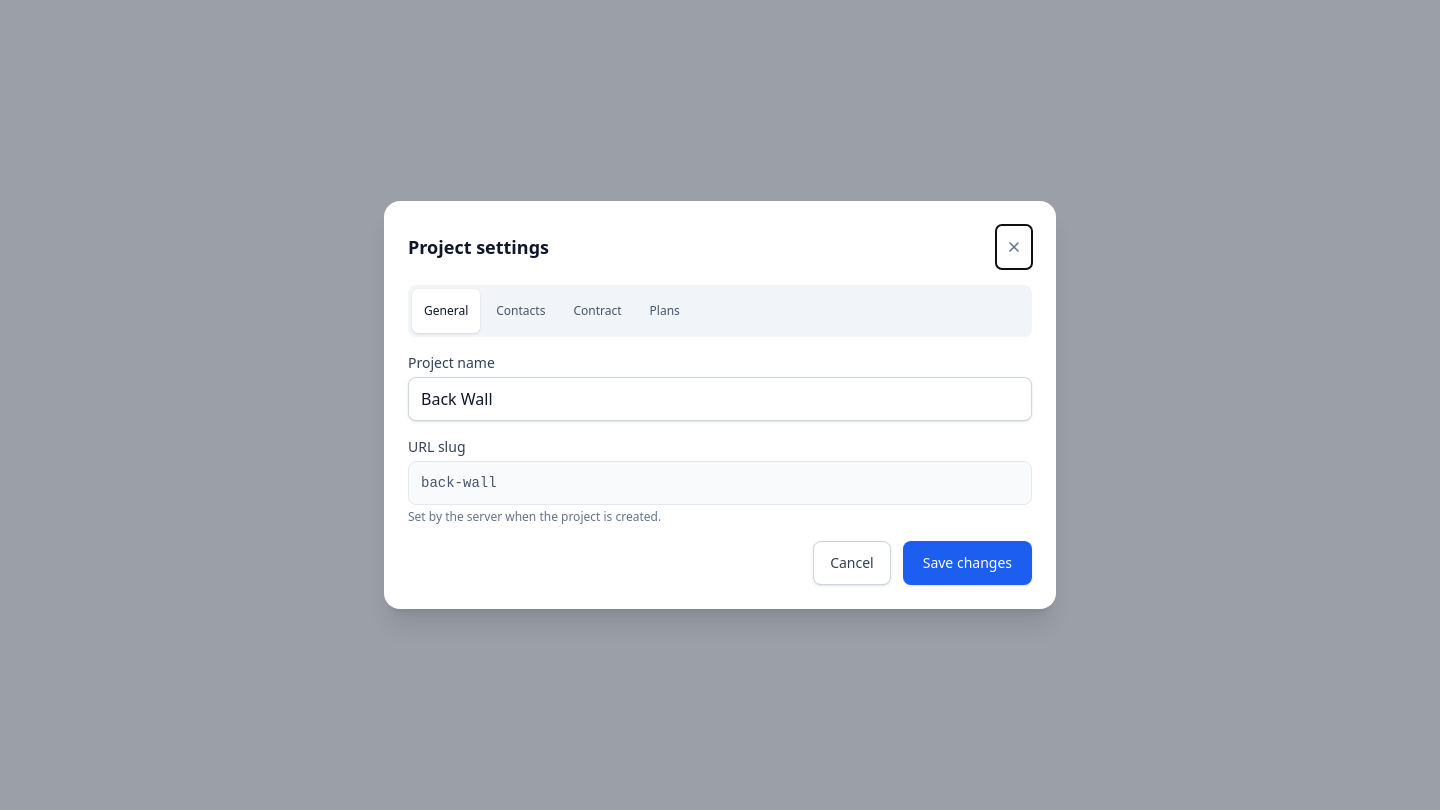
Scenario: SettingsModal › shows the contacts manager when the Contacts tab is selected
Click the tab "Contacts" at (521, 311), box [484, 289, 557, 333]
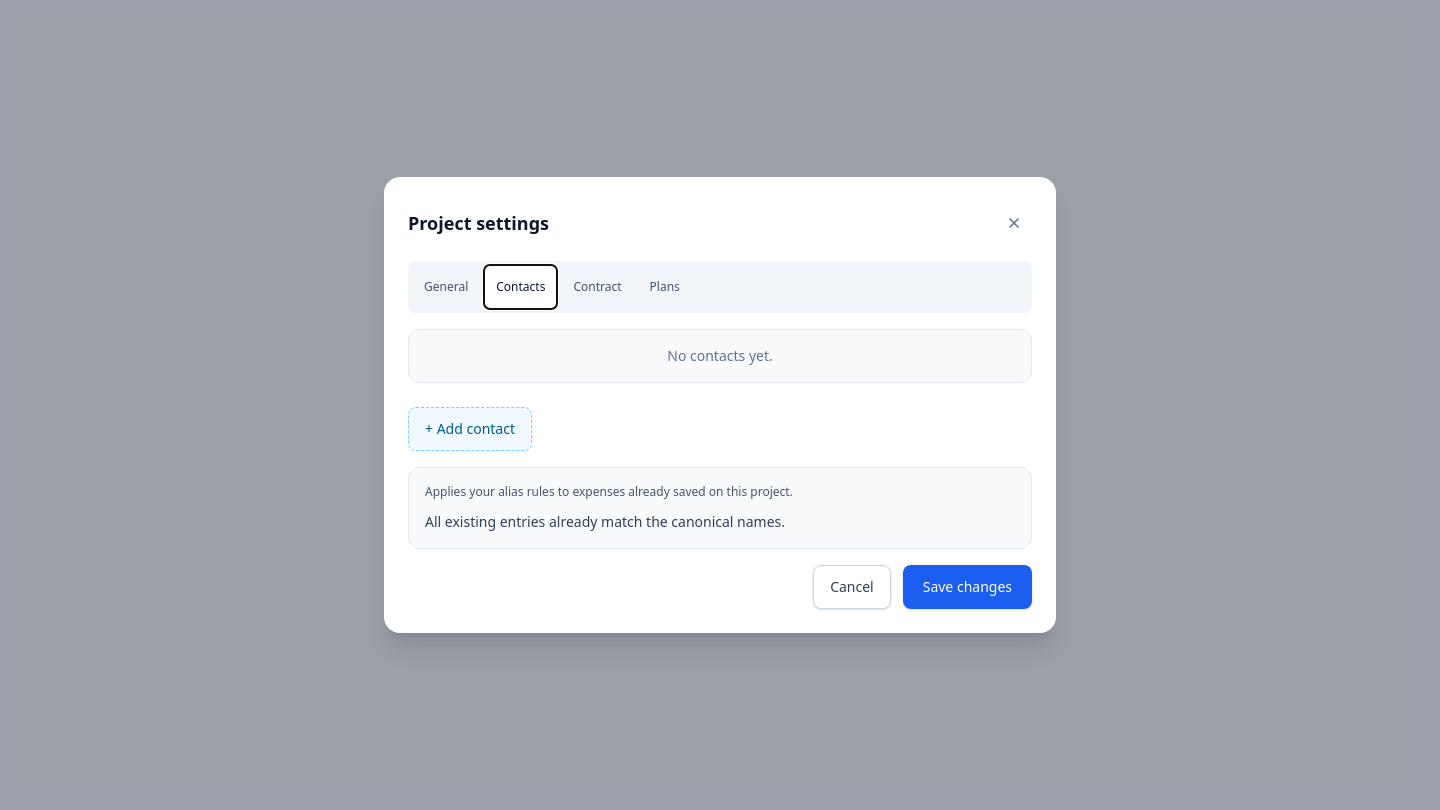
Result: the text "No contacts yet." is shown at [408, 329, 1032, 383]
